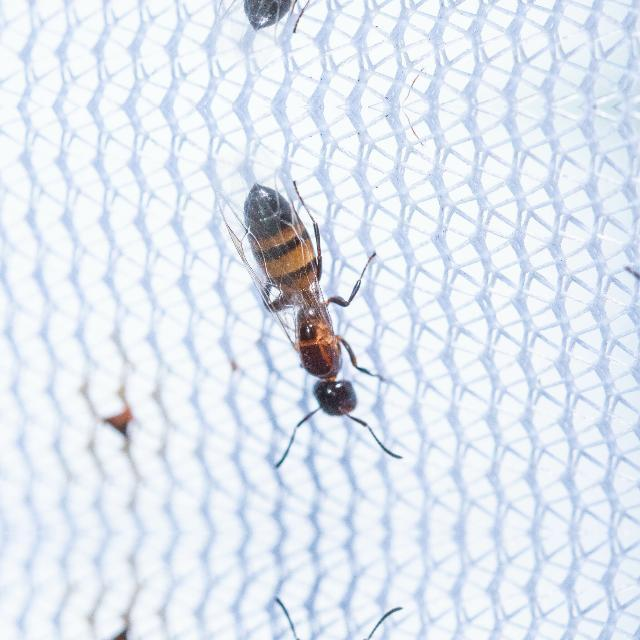Colobopsis: (206, 162, 414, 452)
